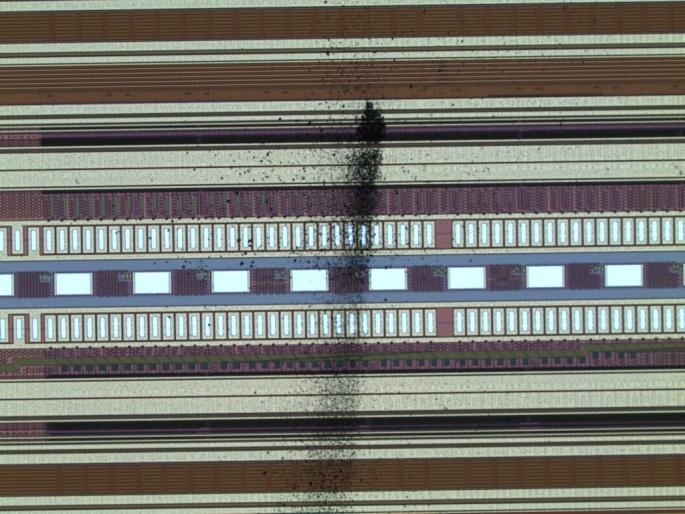PO CONTAMINATION: (157, 1, 402, 514)
